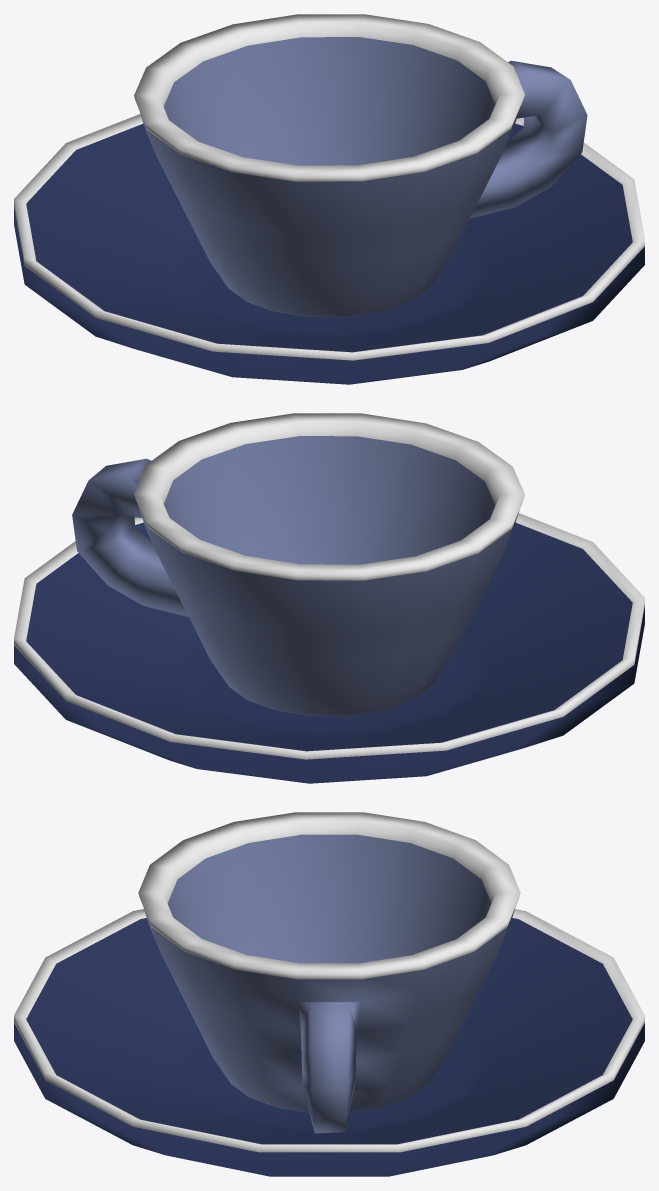
Rendered from coffe-cup3.glb.
3 views of the same model, one above another, from view 1: azimuth 30°, elevation 25°; view 2: azimuth 150°, elevation 25°; view 3: azimuth 270°, elevation 25° (orthographic).
Parts seen in each view (by area): view 1: cup, cover, border-cup, border-cover; view 2: cup, cover, border-cup, border-cover; view 3: cover, cup, border-cup, border-cover.
Part boxes in pixels (<box>): cup: <box>140,37,587,316</box>; cover: <box>14,123,644,384</box>; border-cup: <box>134,14,524,181</box>; border-cover: <box>14,114,644,360</box>; cup: <box>72,436,518,715</box>; cover: <box>14,522,644,783</box>; border-cup: <box>134,413,524,580</box>; border-cover: <box>14,513,644,759</box>; cover: <box>14,918,644,1176</box>; cup: <box>144,834,514,1133</box>; border-cup: <box>138,812,520,979</box>; border-cover: <box>14,909,644,1152</box>.
Bounding box in the file's own units: 0.1786 × 0.0581 × 0.1832.
